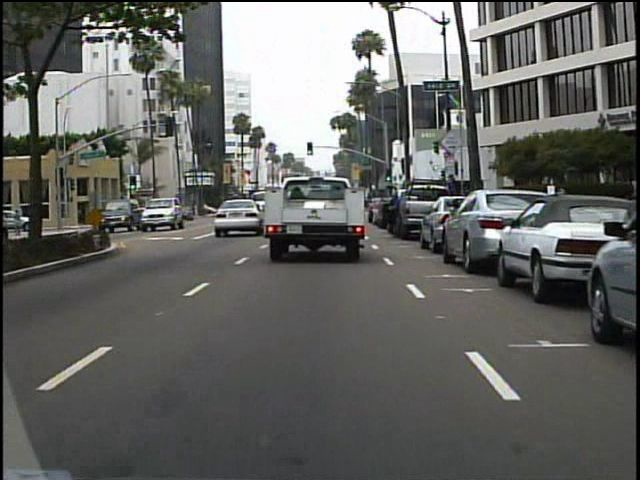person: (381, 184, 404, 236)
